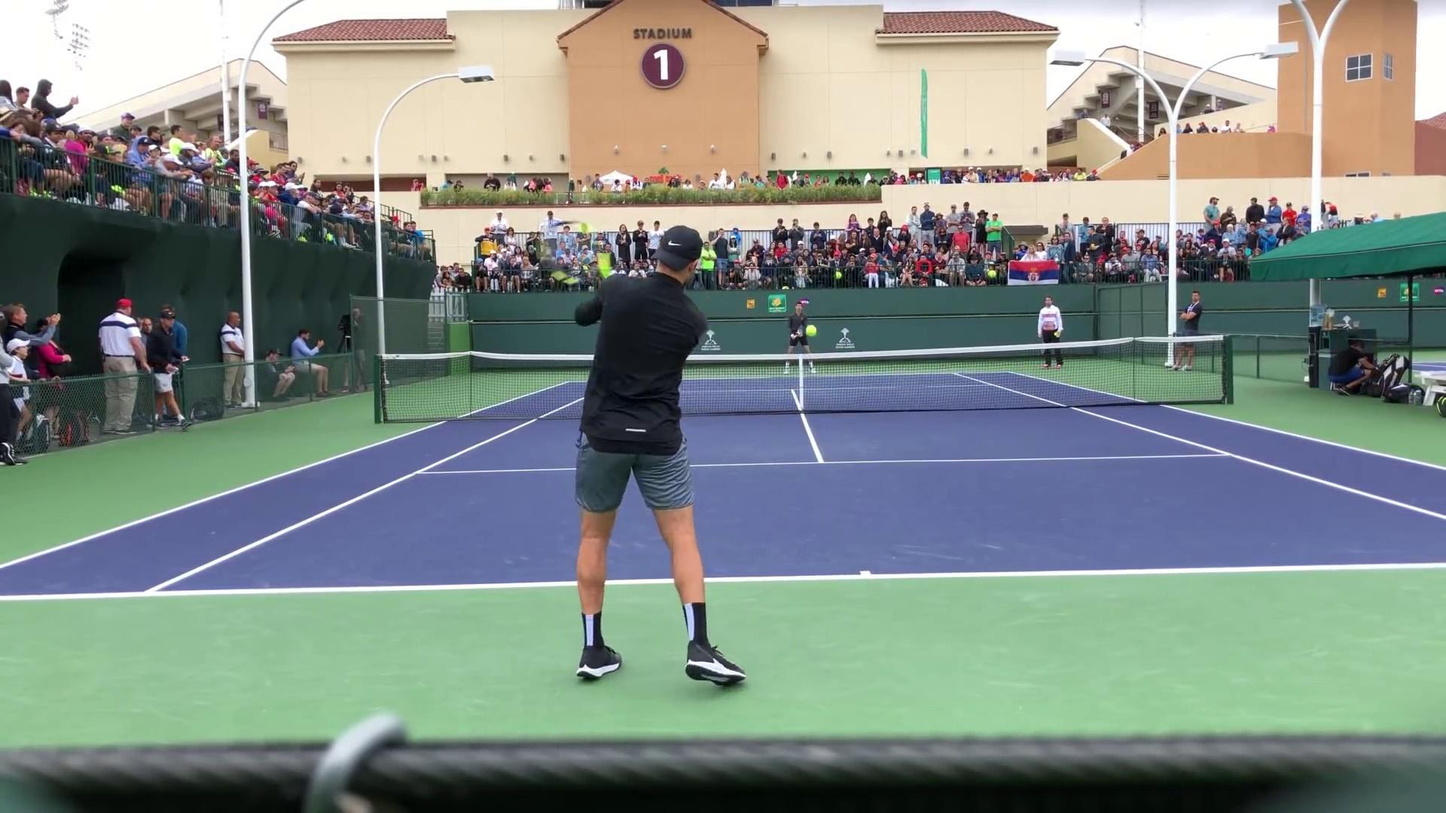ball: (803, 324, 818, 337)
